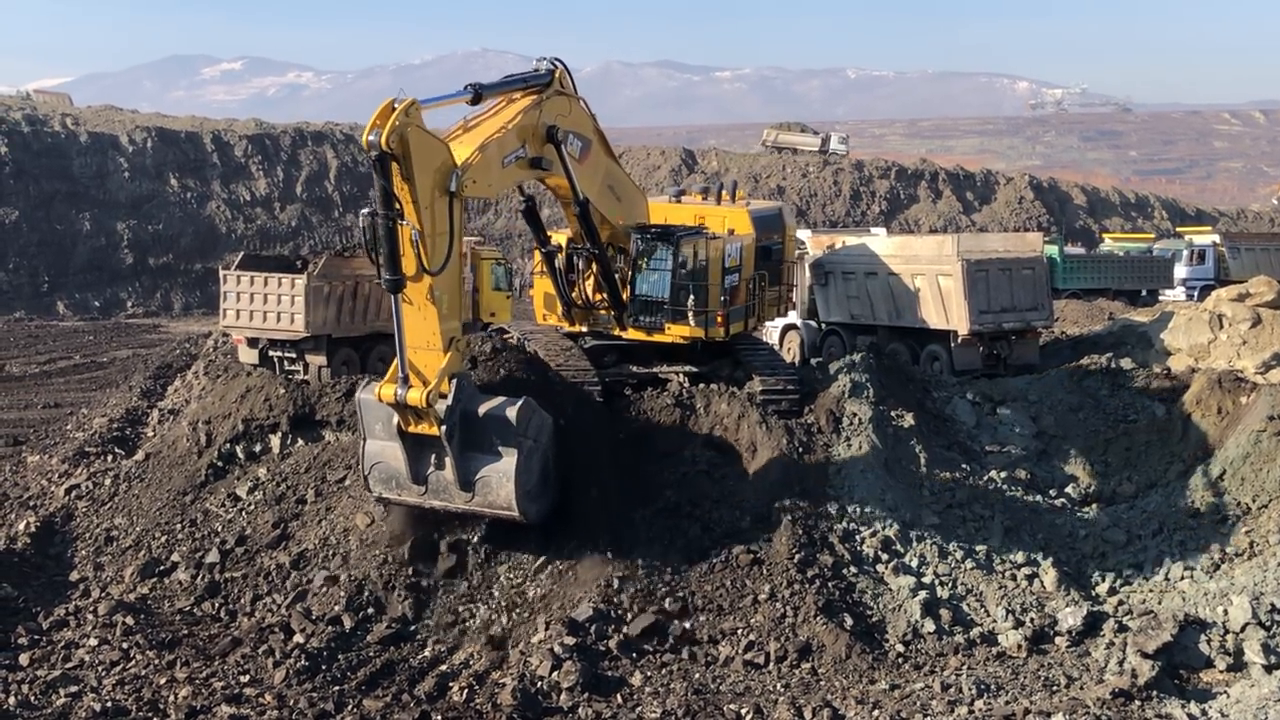full: (348, 347, 596, 531)
